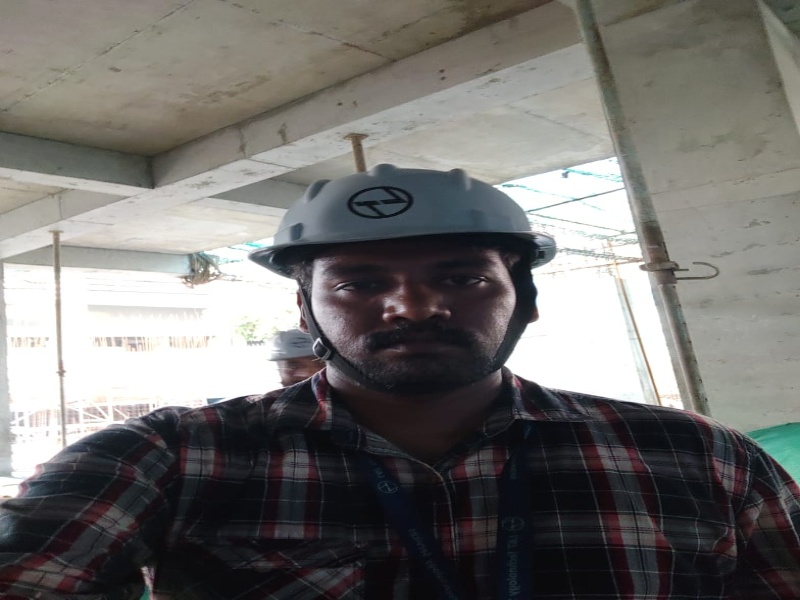Face: (257, 156, 577, 269)
